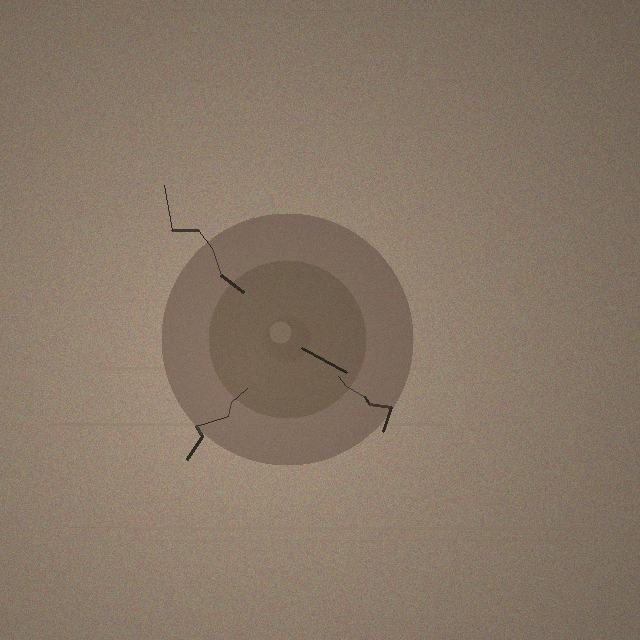crack: (161, 213, 413, 465)
